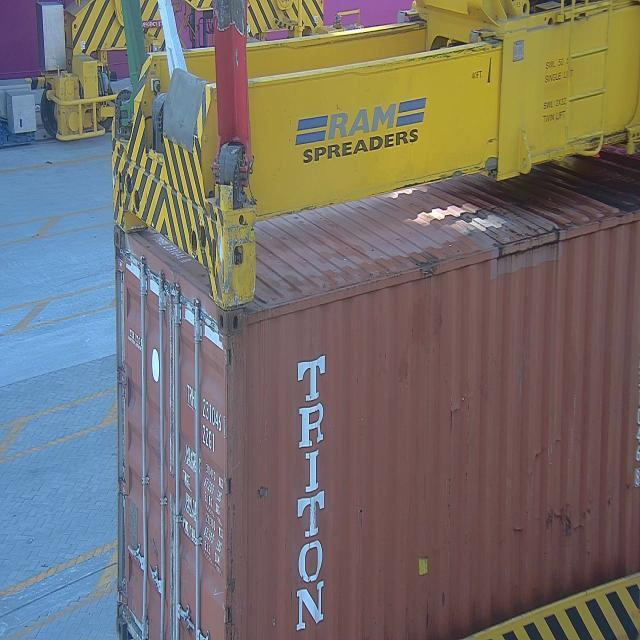rust: (542, 492, 596, 553)
